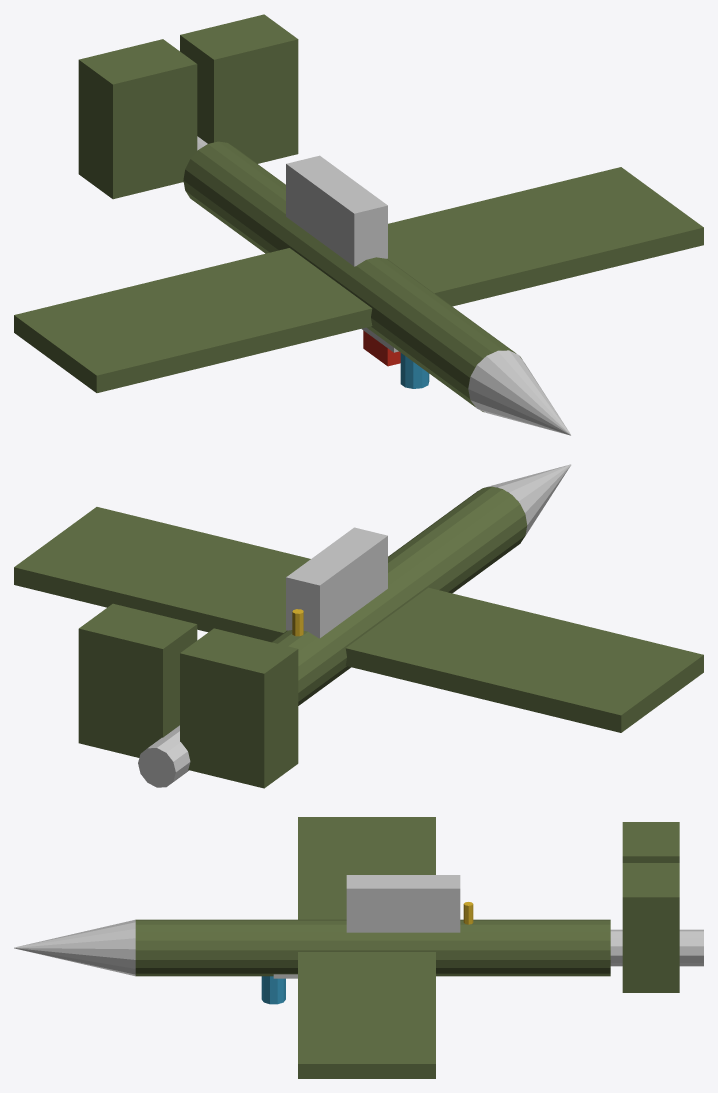
Rendered from strike_drone.obj.
3 views of the same model, one above another, from view 1: azimuth 30°, elevation 25°; view 2: azimuth 150°, elevation 25°; view 3: azimuth 270°, elevation 25° (orthographic). The views are drawn at different scales.
Visible parts, largest first — view 1: strike_drone; view 2: strike_drone; view 3: strike_drone.
Part boxes in pixels (<box>): strike_drone: <box>14,14,703,435</box>; strike_drone: <box>14,464,703,788</box>; strike_drone: <box>14,817,703,1078</box>.
Size of the model in its own units: 1.44 by 0.38 by 1.7.
